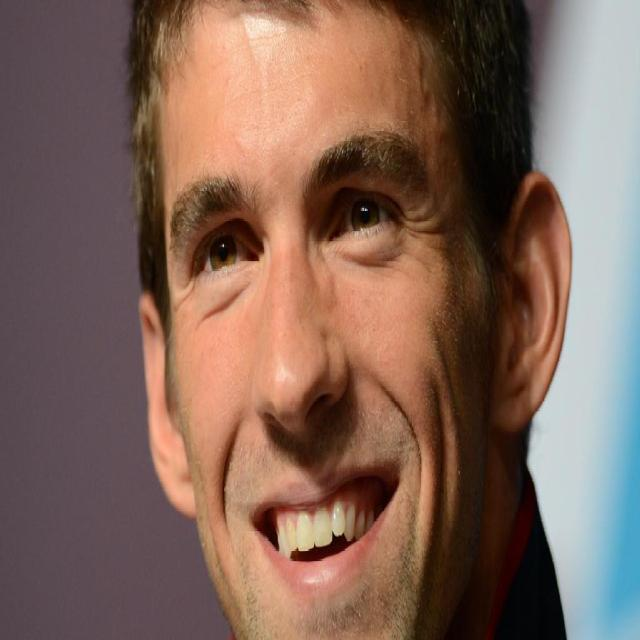Face: (157, 22, 506, 640)
